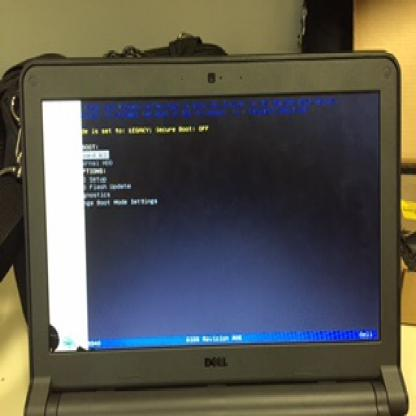lines: (43, 100, 86, 352)
spot: (43, 99, 87, 350)
